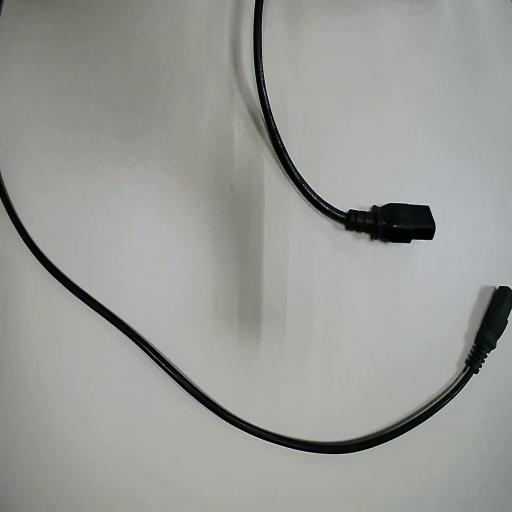wire: (254, 0, 434, 241)
